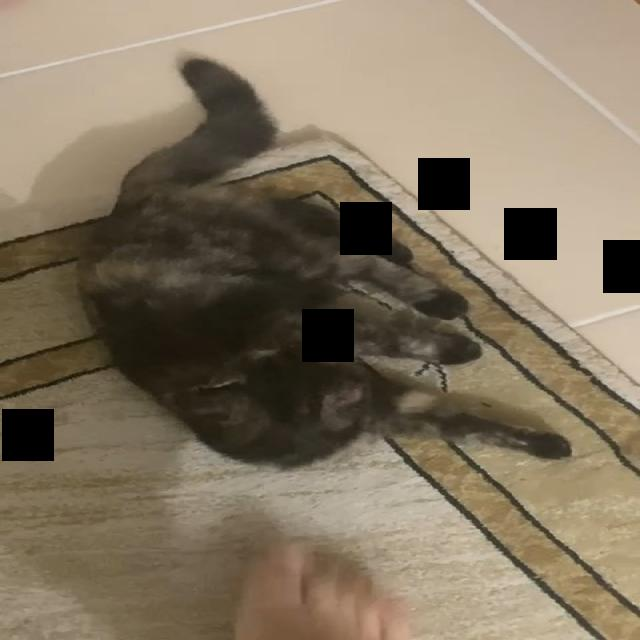authorized: (73, 51, 572, 470)
